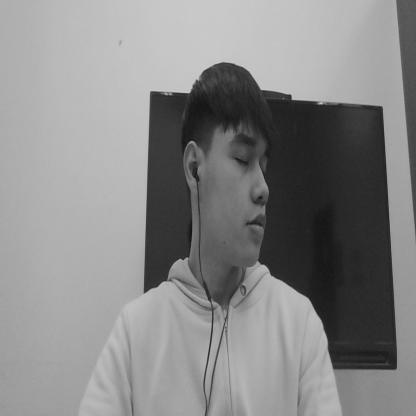Closed-Eyes: (223, 125, 270, 184)
